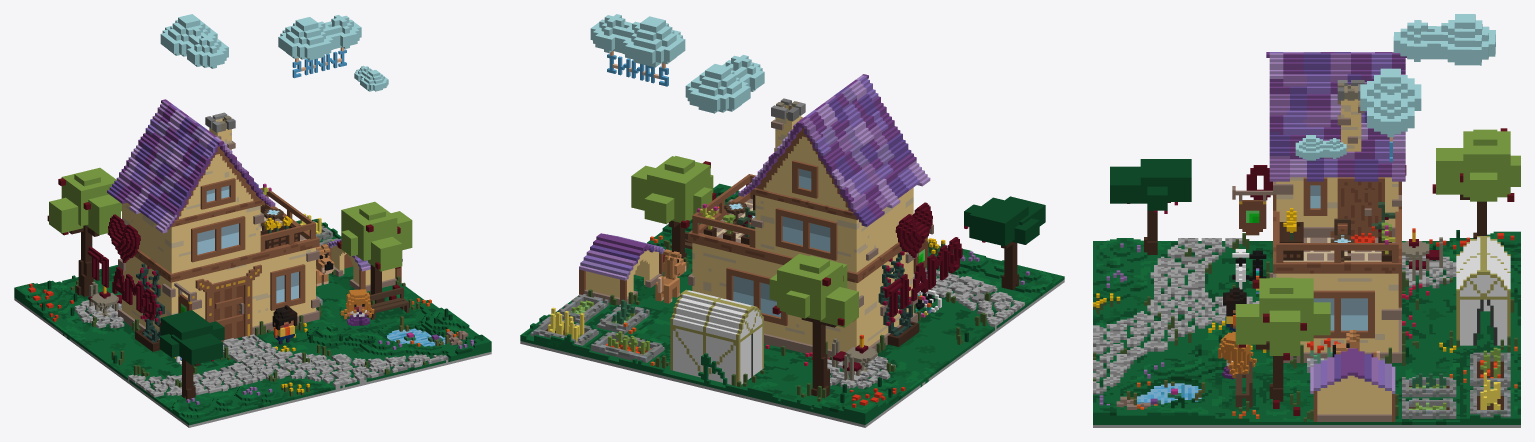
Rendered from love.gltf.
3 views of the same model, side by side, from view 1: azimuth 30°, elevation 25°; view 2: azimuth 150°, elevation 25°; view 3: azimuth 270°, elevation 25° (orthographic). The views are drawn at different scales.
Visible parts, largest first — view 1: love-grouped-6, love-grouped-8, love-grouped-7, love-grouped-5, love-grouped-0, love-grouped-1, love-grouped-4, love-grouped-2; view 2: love-grouped-6, love-grouped-7, love-grouped-8, love-grouped-5, love-grouped-2, love-grouped-4; view 3: love-grouped-6, love-grouped-8, love-grouped-5, love-grouped-0, love-grouped-7, love-grouped-1, love-grouped-2.
Part boxes in pixels (x1,y1,x2,y2): love-grouped-6: (14,99,491,427); love-grouped-8: (278,15,388,91); love-grouped-7: (87,214,156,320); love-grouped-5: (160,14,228,68); love-grouped-0: (340,289,374,325); love-grouped-1: (272,305,297,344); love-grouped-4: (292,47,346,78); love-grouped-2: (316,244,334,286); love-grouped-6: (520,74,1064,427); love-grouped-7: (884,202,962,317); love-grouped-8: (590,14,685,67); love-grouped-5: (685,55,764,113); love-grouped-2: (655,249,686,303); love-grouped-4: (607,51,668,86); love-grouped-6: (1093,52,1520,427); love-grouped-8: (1295,68,1421,160); love-grouped-5: (1393,14,1495,65); love-grouped-0: (1218,331,1256,379); love-grouped-7: (1246,165,1406,200); love-grouped-1: (1223,287,1246,331); love-grouped-2: (1332,330,1379,360).
Bounding box in the file's own units: 126 × 104 × 126.
Materials: 8 (8 with a texture image).
